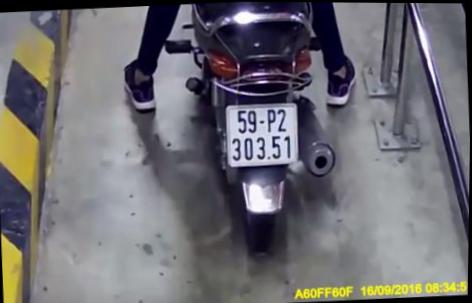LP: (223, 98, 302, 167)
